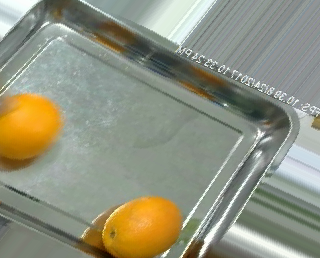Orange: (101, 196, 183, 258), (1, 92, 66, 160)
